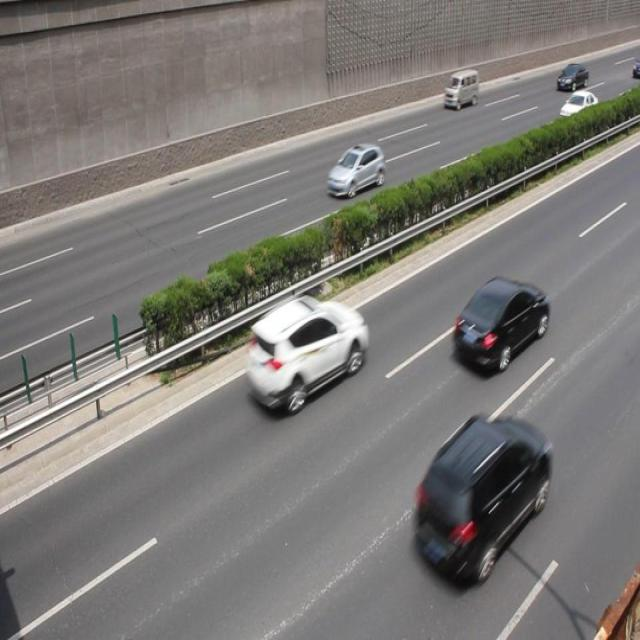car: (407, 417, 551, 579), (244, 294, 366, 416), (452, 275, 548, 376), (325, 143, 385, 200), (557, 88, 596, 129), (555, 63, 587, 91)
truck: (443, 70, 478, 108)
